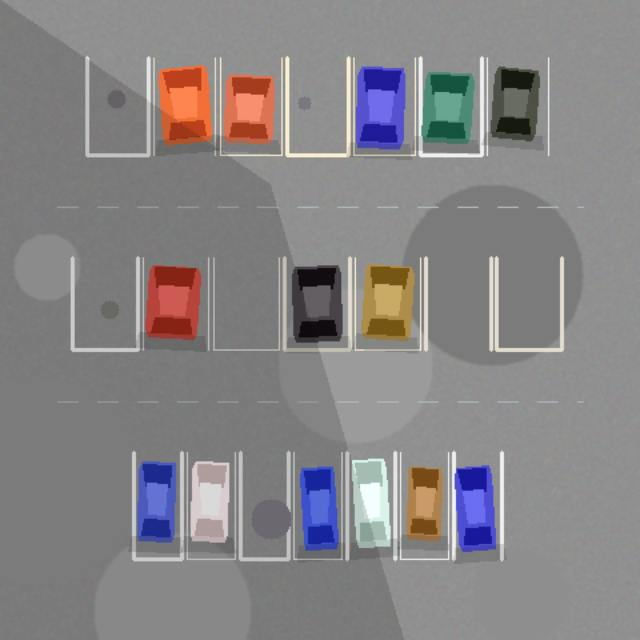space-empty: (213, 257, 279, 349), (425, 257, 491, 349), (72, 257, 137, 349), (496, 257, 561, 349), (87, 57, 148, 155), (287, 57, 348, 155), (240, 452, 288, 559)
space-occupied: (153, 57, 215, 155), (353, 57, 415, 155), (143, 257, 208, 349), (284, 257, 349, 349), (355, 257, 420, 349), (220, 57, 281, 155), (420, 57, 481, 155), (487, 57, 548, 155), (133, 452, 181, 559), (187, 452, 235, 559), (293, 452, 341, 559), (347, 452, 395, 559), (400, 452, 448, 559), (453, 452, 501, 559)
